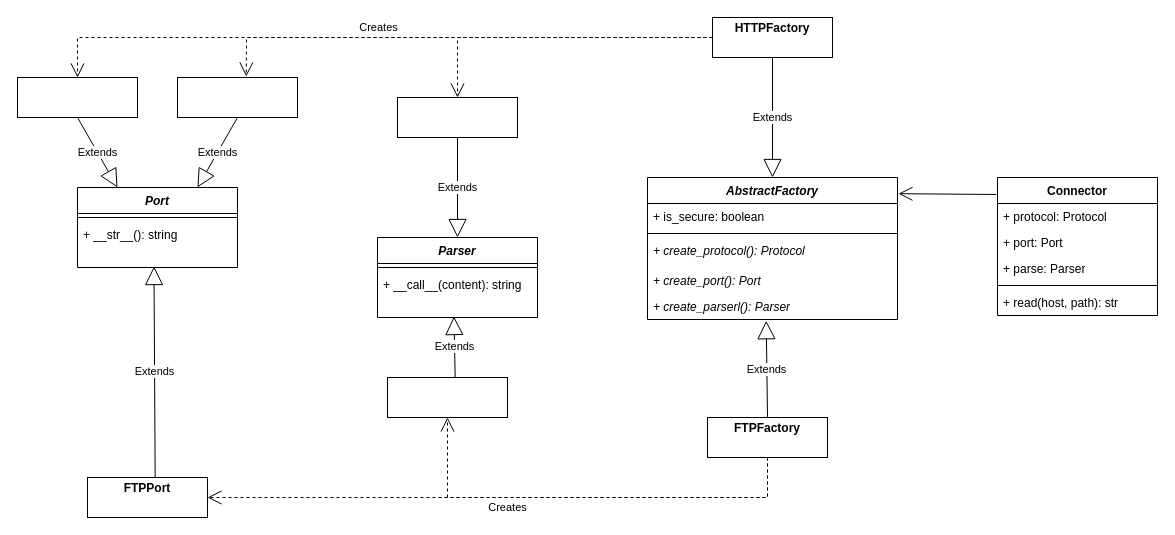
This 1175x535 diagram has some shape labels left out. The centre of each missing label's shape, as x and y in pixels:
FTPParser: point (447, 397)
HTTPParser: point (457, 117)
HTTPPort: point (77, 97)
HTTPSecurePort: point (237, 97)
